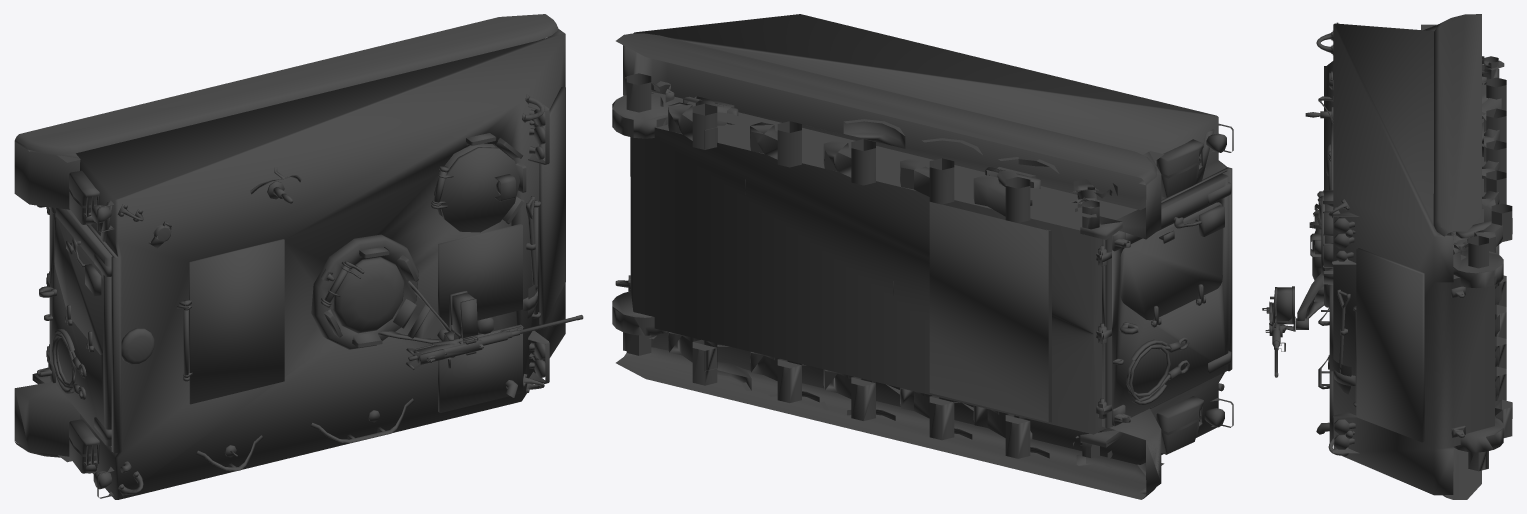
Rendered from m113a1_no_roadwheels.obj.
The picture shows the model from 3 angles, left to right: view 1: azimuth 30°, elevation 25°; view 2: azimuth 150°, elevation 25°; view 3: azimuth 270°, elevation 25°; orthographic projection. The views are drawn at different scales.
Bounding box in the file's own units: 4.74 × 2.69 × 2.27.
Materials: 1 (1 with a texture image).
